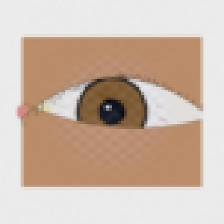pinguecula_lesion: (28, 96, 59, 122)
